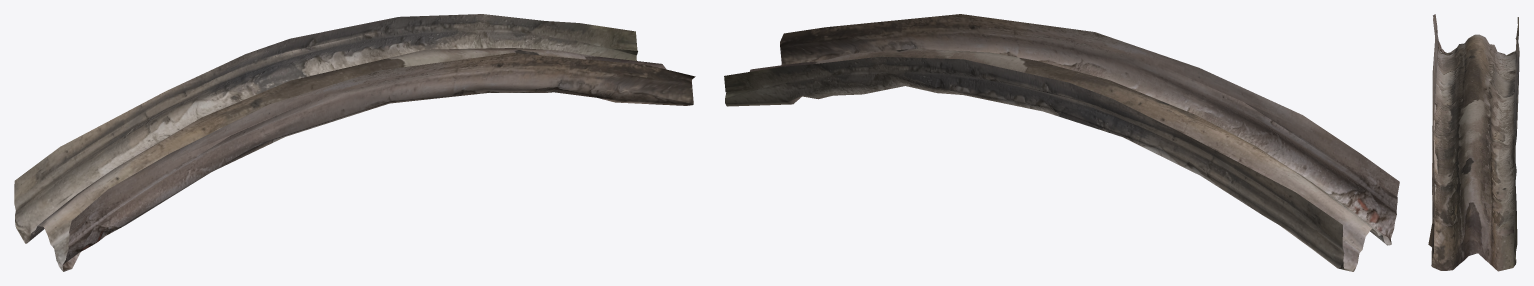
Rendered from SM_ChapelCeilingConnector_01_02.fbx.
3 views of the same model, side by side, from view 1: azimuth 30°, elevation 25°; view 2: azimuth 150°, elevation 25°; view 3: azimuth 270°, elevation 25° (orthographic). The views are drawn at different scales.
Visible parts, largest first — view 1: sm_ChapelCeilingConnector_01_02_LOD0; view 2: sm_ChapelCeilingConnector_01_02_LOD0; view 3: sm_ChapelCeilingConnector_01_02_LOD0.
Part boxes in pixels (x1,y1,x2,y2): sm_ChapelCeilingConnector_01_02_LOD0: (14, 14, 695, 271); sm_ChapelCeilingConnector_01_02_LOD0: (724, 14, 1399, 271); sm_ChapelCeilingConnector_01_02_LOD0: (1428, 14, 1519, 271).
Size of the model in its own units: 42.79 by 250 by 51.
